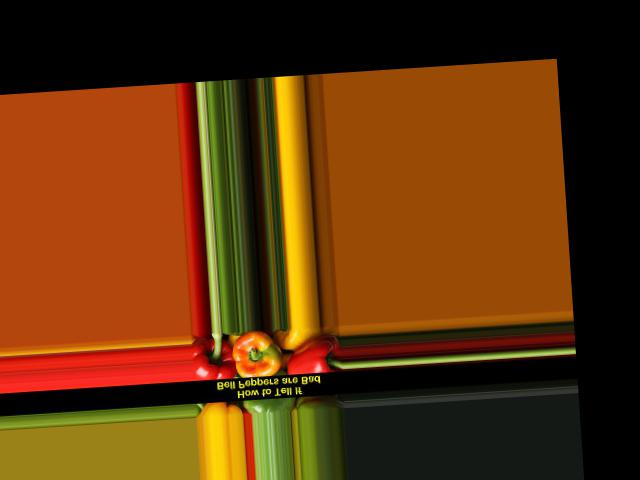bell_pepper: (193, 331, 239, 383)
